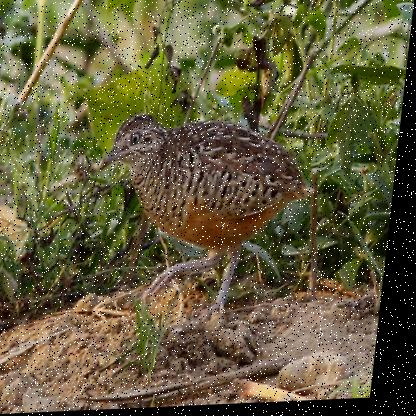Burung: (88, 108, 327, 327)
